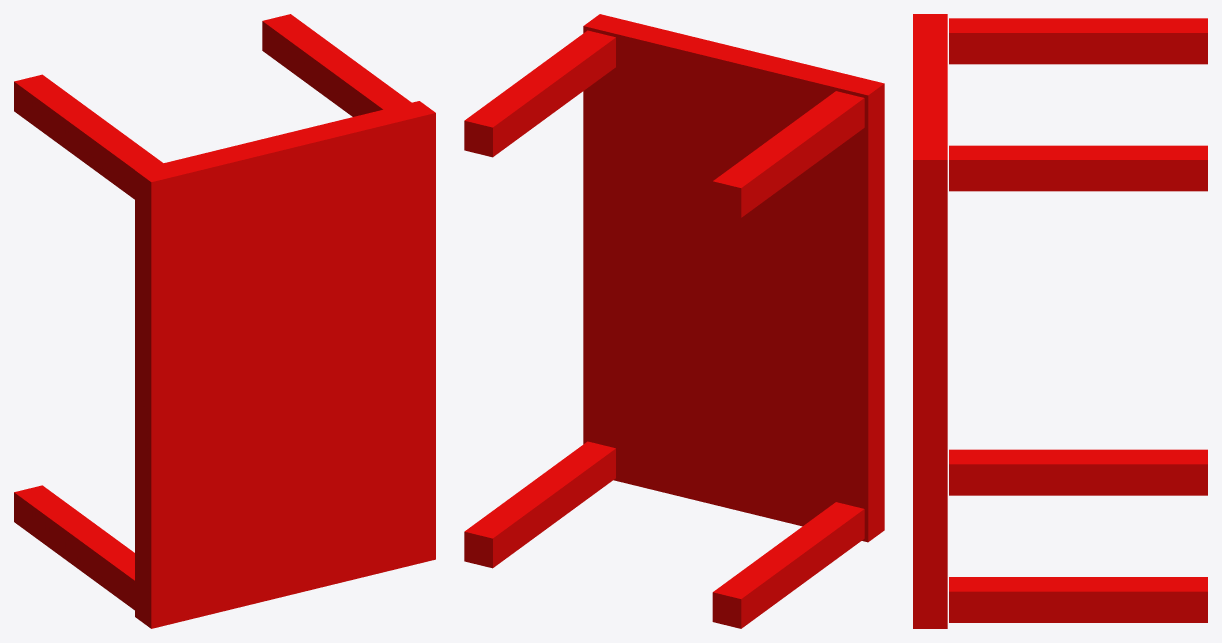
The model's file is Home_robot.dae.
The picture shows the model from 3 angles, left to right: view 1: azimuth 30°, elevation 25°; view 2: azimuth 150°, elevation 25°; view 3: azimuth 270°, elevation 25°; orthographic projection. The views are drawn at different scales.
Parts seen in each view (by area): view 1: instance_0 (×4); view 2: instance_0 (×5); view 3: instance_0 (×5).
Boxes of the visible parts, box(x1,y1,x2,y2) form: instance_0 (×4): box(14, 14, 435, 628); instance_0 (×5): box(464, 14, 884, 628); instance_0 (×5): box(913, 14, 1207, 628).
Size of the model in its own units: 47.24 by 40.36 by 70.87.
